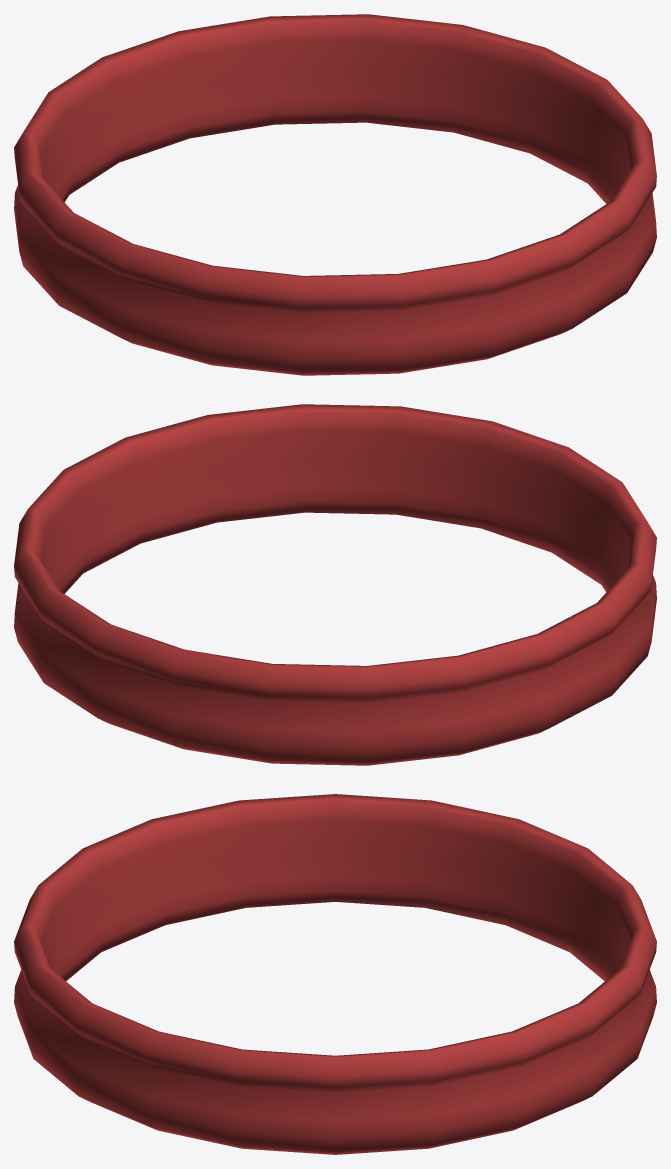
Rendered from Bandana.fbx.
The picture shows the model from 3 angles, top to bottom: view 1: azimuth 30°, elevation 25°; view 2: azimuth 150°, elevation 25°; view 3: azimuth 270°, elevation 25°; orthographic projection.
Parts seen in each view (by area): view 1: Bandana1; view 2: Bandana1; view 3: Bandana1.
Part boxes in pixels (<box>): Bandana1: <box>14,14,656,375</box>; Bandana1: <box>14,404,656,765</box>; Bandana1: <box>14,794,656,1154</box>.
Bounding box in the file's own units: 5.72 × 0.9933 × 5.72.
